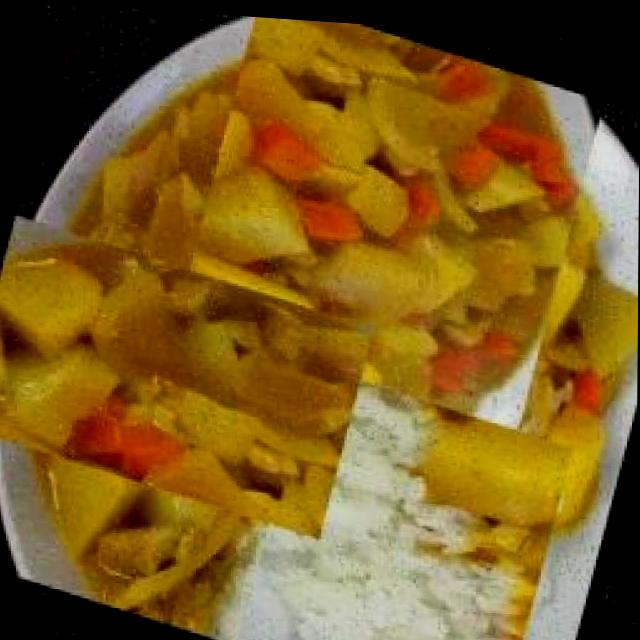curry: (117, 6, 640, 496), (0, 178, 344, 566)
rice: (226, 362, 583, 640)
